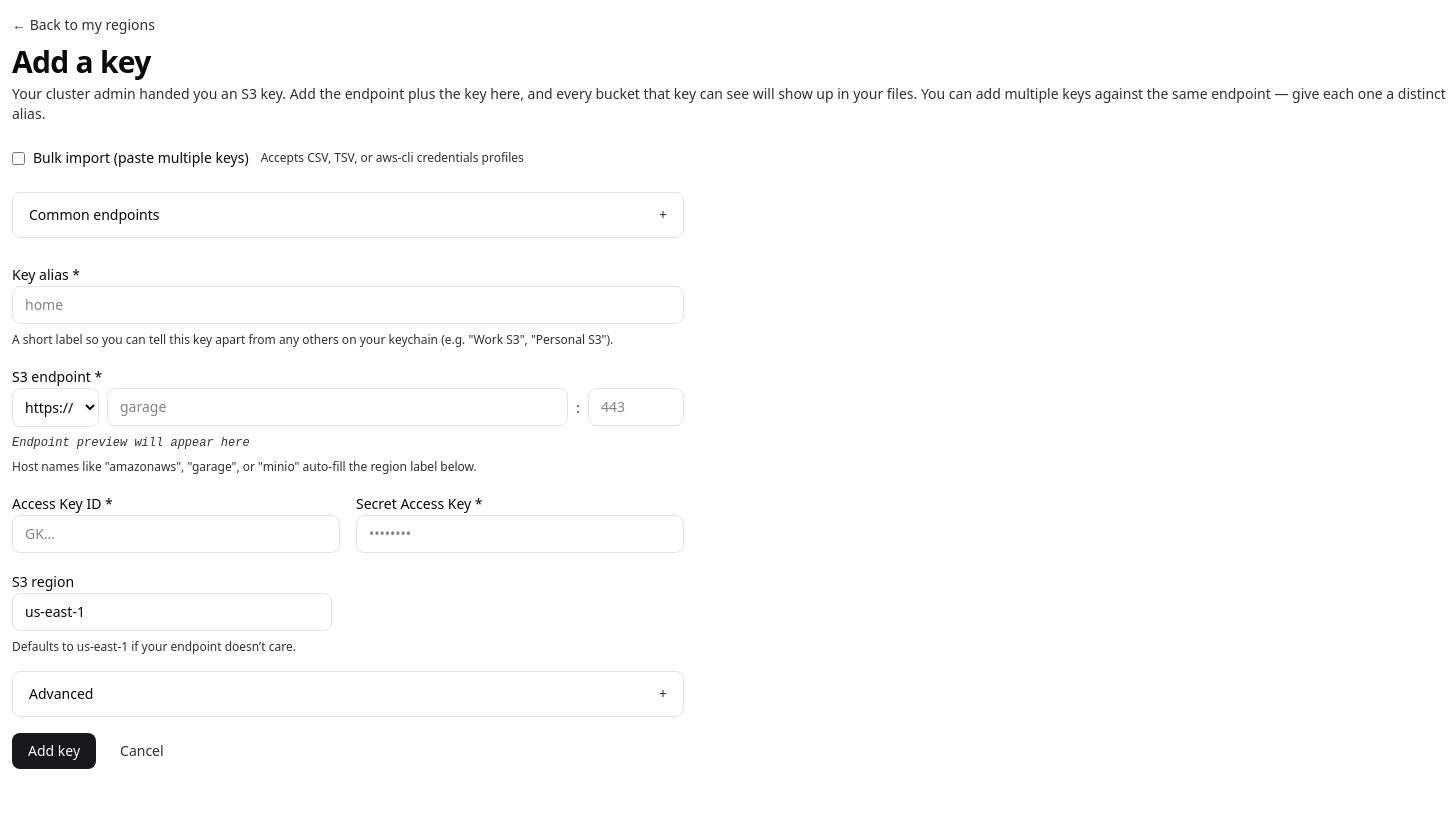
AddKeyPage (/files/keys/new) › disables the bulk submit button when any pasted row has a validation error
Click the checkbox with test id "bulk-mode-toggle" at (18, 158), box [12,152,25,164]
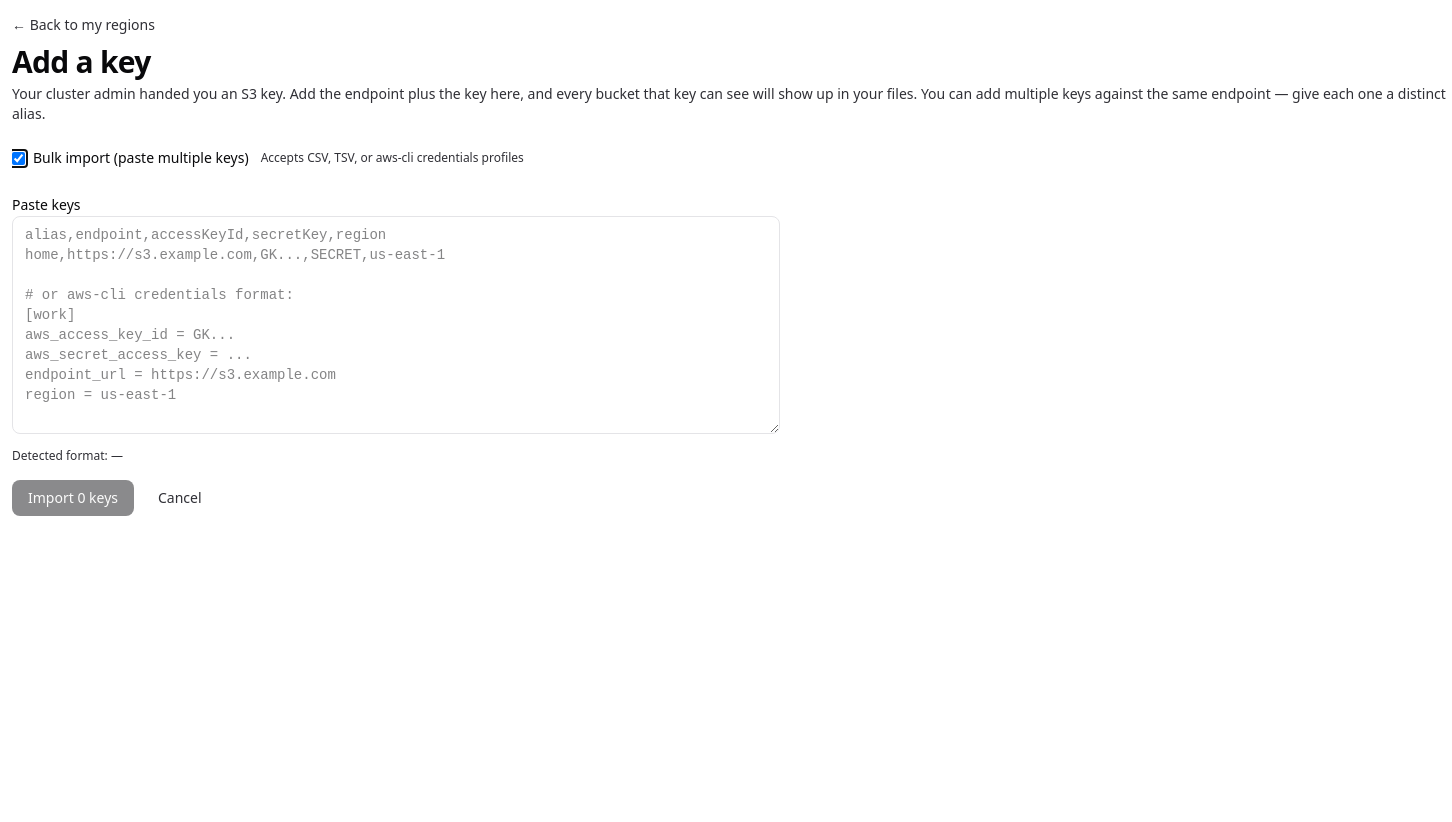
Click the text box with test id "bulk-input" at (396, 325), box [12,216,780,434]
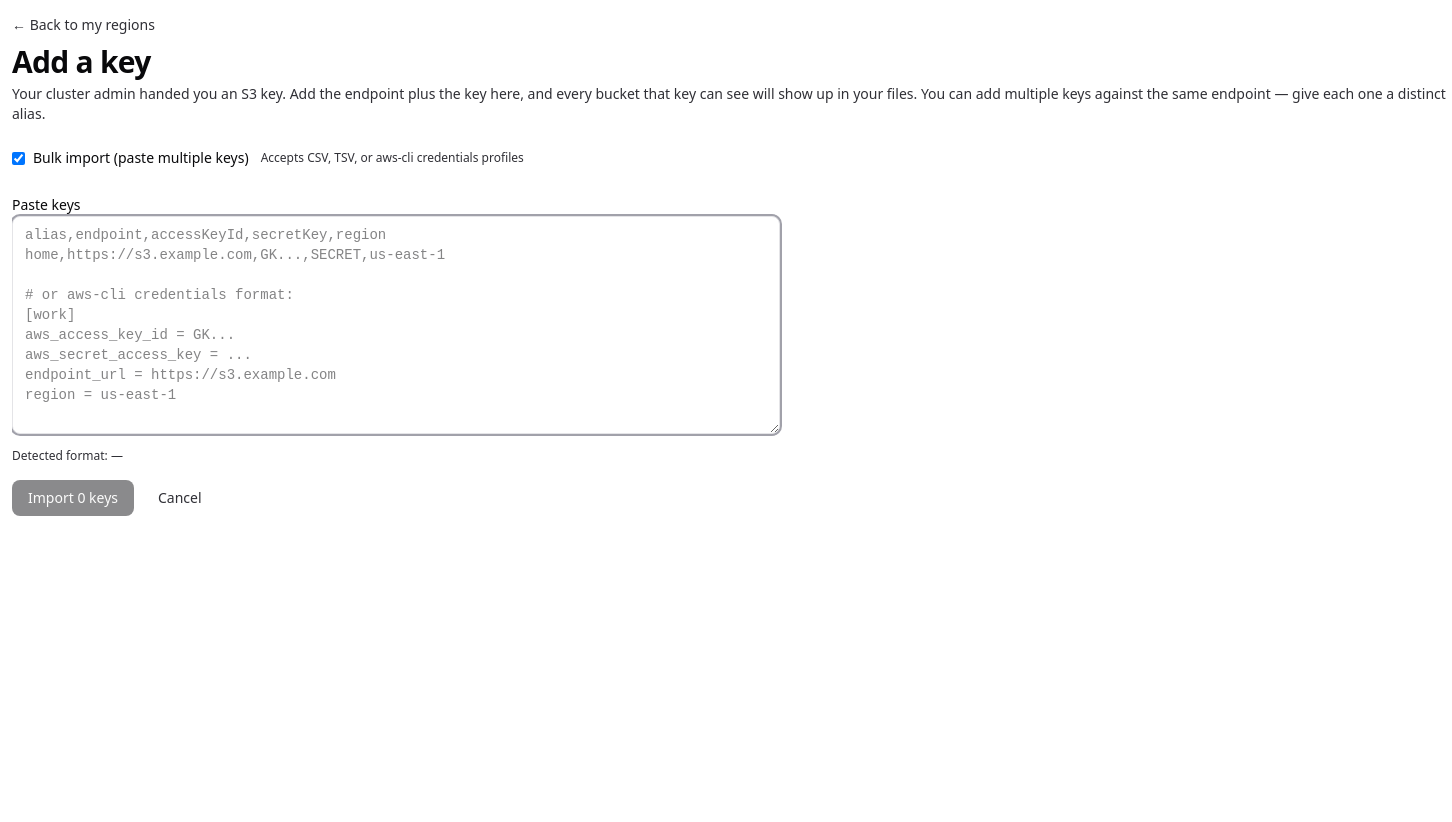
Type keys "alias,endpoint,accessKeyId,secretKey ok,https://s3.example.com,GK,sec bad,not-a-url,GK,sec"
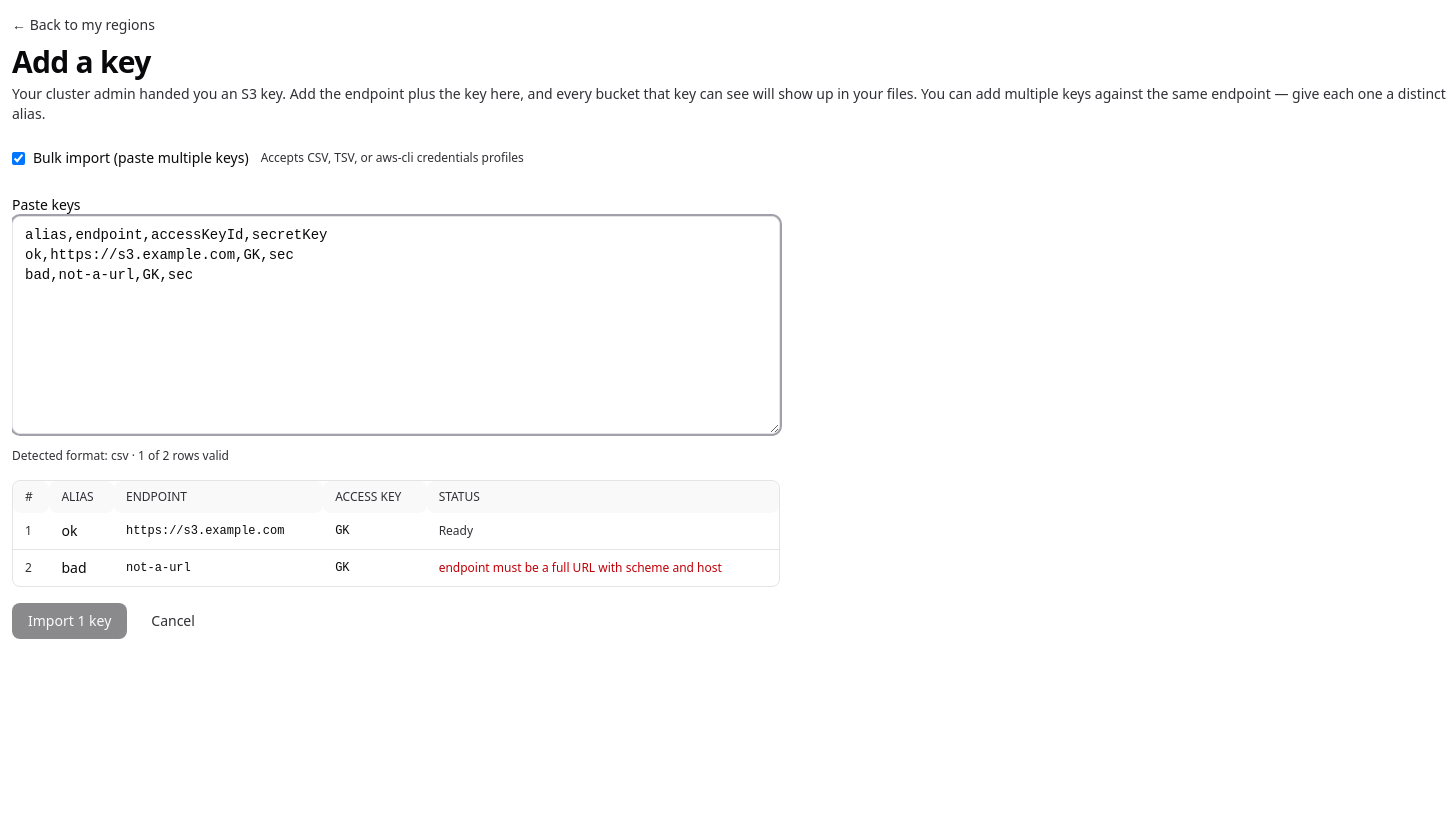
Expected: the button with test id "bulk-submit" is disabled, [12,603,127,639]
Expected: the text with test id "bulk-row-count" reads "1 of 2 rows valid", [138,447,229,464]
